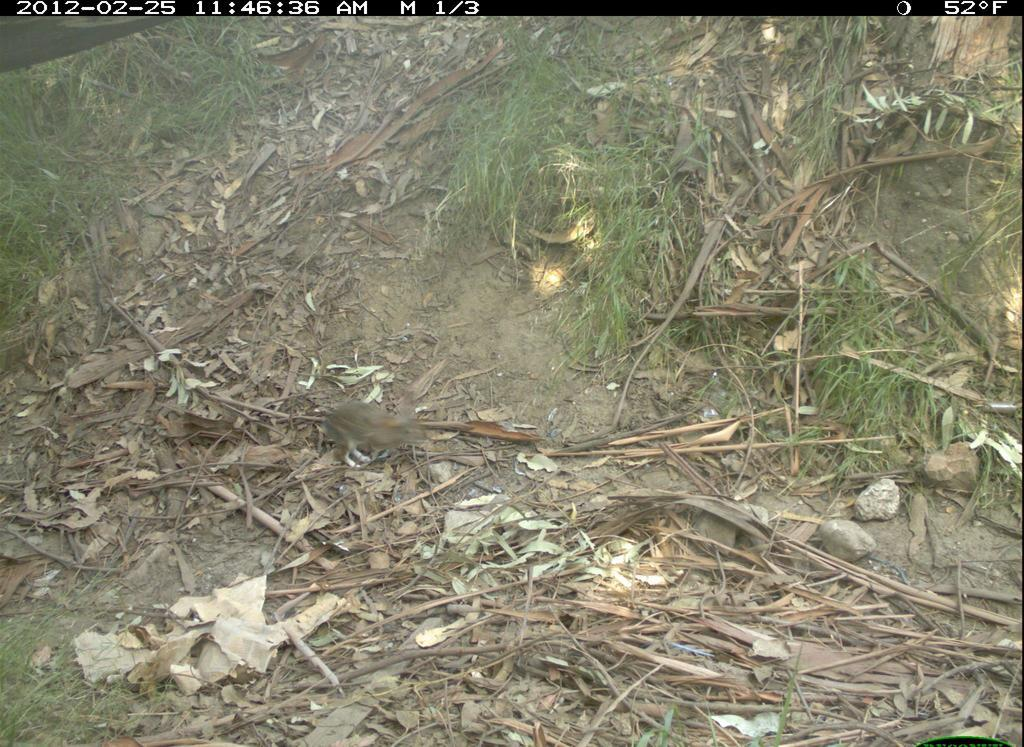rabbit: (318, 379, 441, 470)
